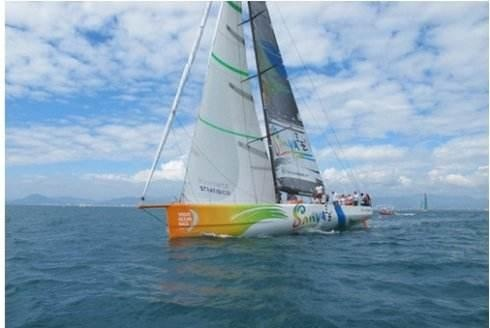fanchuan: (140, 1, 373, 240)
